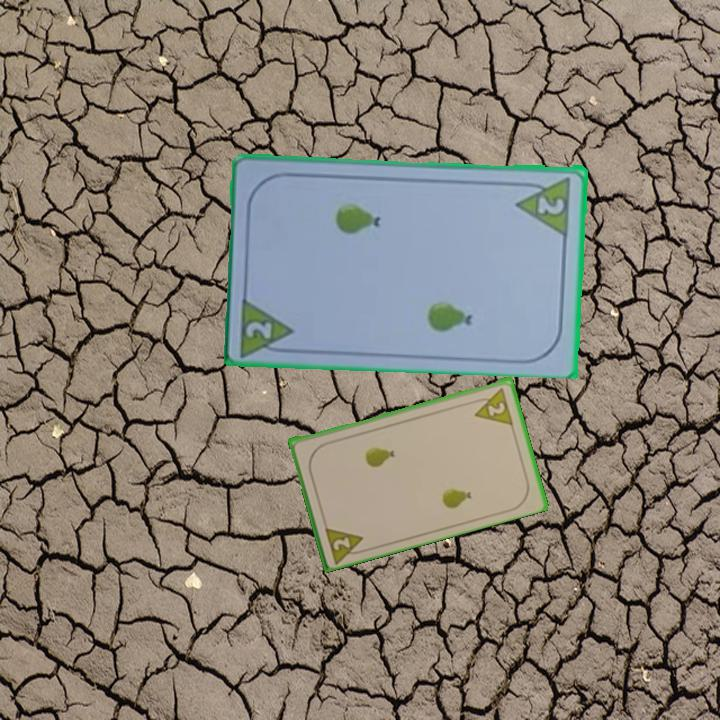2p: (514, 173, 574, 237), (468, 384, 516, 427), (242, 317, 275, 342), (329, 533, 354, 553)
